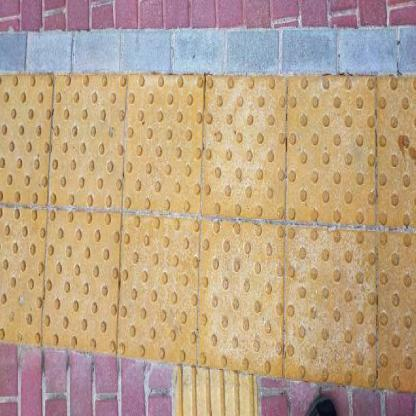podotacti: (0, 71, 416, 394)
